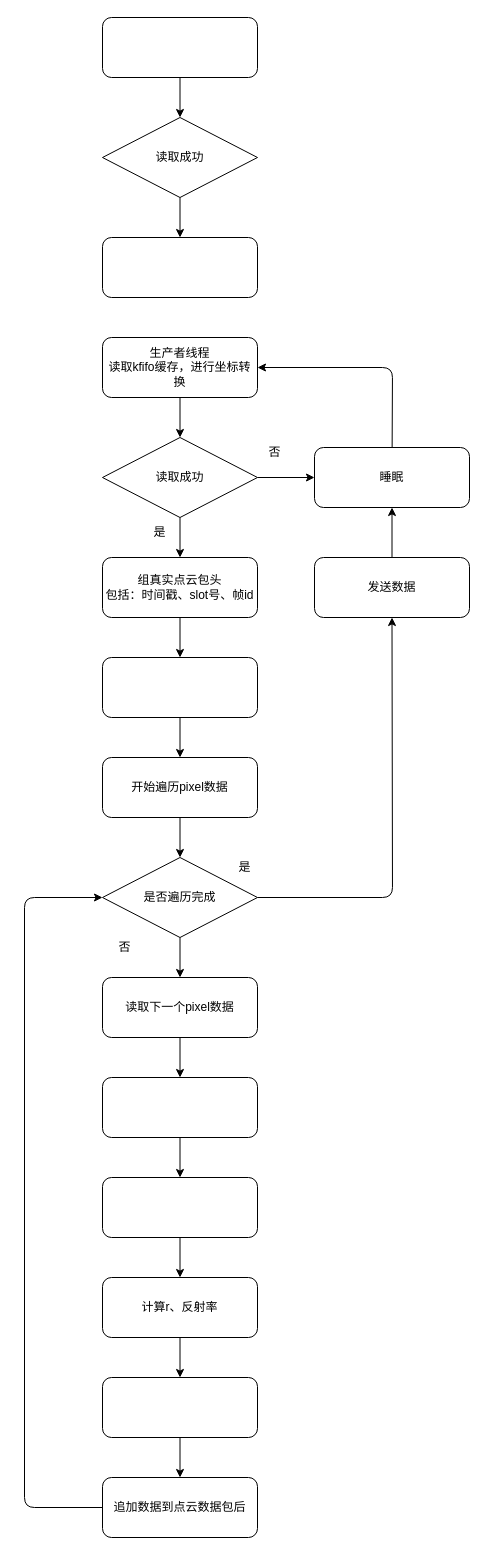
Some shapes in this 487 by 1555 pixel diagram are drawn without their labels. Each missing label, with the box of its shape:
对每一个slot增加协议头 存入kfifo缓存: (102, 236, 258, 298)
根据配置取回波模式: (102, 1076, 258, 1138)
根据配置取回波类型: (102, 1176, 258, 1238)
生产者线程 读取驱动、一次10个slot: (102, 16, 258, 78)
计算x、y、z: (102, 1376, 258, 1438)
读取码盘角度，计算转镜角度: (102, 656, 258, 718)
